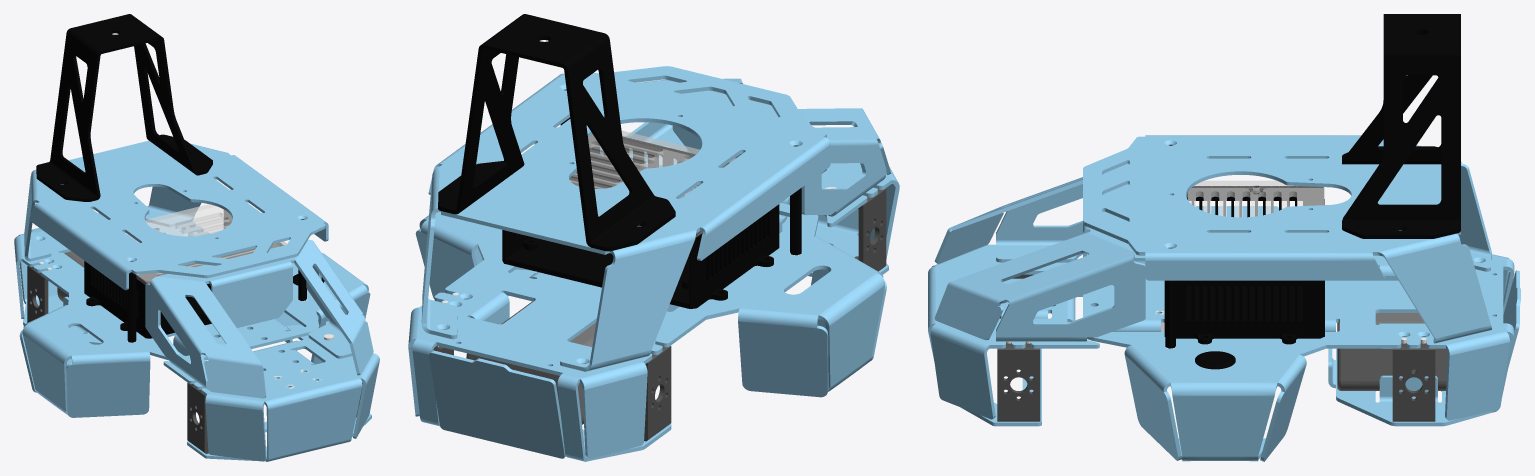
The picture shows the model from 3 angles, left to right: view 1: azimuth 30°, elevation 25°; view 2: azimuth 150°, elevation 25°; view 3: azimuth 270°, elevation 25°; orthographic projection. The views are drawn at different scales.
Visible parts, largest first — view 1: M3____ƿ_1.002, M3____ƿ_9_2_, M3____ƿ_2_1_.001, M3______2, ___ߴ______ʮ____۰__ͷľ_ݶ______1, Բ__2.001, _г_--__1.006, _г_--__6, _г_--__6.001, M3____ƿ_1.001; view 2: M3____ƿ_9_2_, M3____ƿ_1.002, ___ߴ______ʮ____۰__ͷľ_ݶ______1, Բ__2.001, _̨--__3, M3____ƿ_2_1_.001, M3______2, _г_--__1.006, _г_--__6.001, _г_--__6, Բ__2, M3____ƿ_1.001; view 3: M3____ƿ_1.002, M3____ƿ_9_2_, M3____ƿ_2_1_.001, ___ߴ______ʮ____۰__ͷľ_ݶ______1, Բ__2.001, M3______2, Բ__2, _г_--__1.006, _г_--__6.003, _г_--__6.002, _̨--__3, M3____ƿ_1 (+1 smaller).
Part boxes in pixels (x1=…): M3____ƿ_1.002: x1=24, y1=140, x2=328, y2=290; M3____ƿ_9_2_: x1=14, y1=206, x2=370, y2=417; M3____ƿ_2_1_.001: x1=145, y1=239, x2=373, y2=398; M3______2: x1=163, y1=321, x2=379, y2=461; ___ߴ______ʮ____۰__ͷľ_ݶ______1: x1=36, y1=14, x2=212, y2=201; Բ__2.001: x1=84, y1=210, x2=283, y2=338; _г_--__1.006: x1=124, y1=204, x2=286, y2=284; _г_--__6: x1=187, y1=383, x2=208, y2=453; _г_--__6.001: x1=27, y1=263, x2=58, y2=322; M3____ƿ_1.001: x1=127, y1=261, x2=136, y2=342; M3____ƿ_9_2_: x1=408, y1=188, x2=886, y2=461; M3____ƿ_1.002: x1=421, y1=66, x2=830, y2=371; ___ߴ______ʮ____۰__ͷľ_ݶ______1: x1=438, y1=14, x2=675, y2=251; Բ__2.001: x1=502, y1=134, x2=779, y2=308; _̨--__3: x1=429, y1=350, x2=565, y2=458; M3____ƿ_2_1_.001: x1=600, y1=78, x2=891, y2=216; M3______2: x1=672, y1=125, x2=899, y2=276; _г_--__1.006: x1=569, y1=130, x2=735, y2=236; _г_--__6.001: x1=644, y1=346, x2=671, y2=441; _г_--__6: x1=854, y1=188, x2=886, y2=271; Բ__2: x1=466, y1=301, x2=596, y2=424; M3____ƿ_1.001: x1=790, y1=145, x2=801, y2=255; M3____ƿ_1.002: x1=1083, y1=135, x2=1491, y2=343; M3____ƿ_9_2_: x1=1083, y1=206, x2=1514, y2=461; M3____ƿ_2_1_.001: x1=934, y1=164, x2=1145, y2=341; ___ߴ______ʮ____۰__ͷľ_ݶ______1: x1=1342, y1=14, x2=1460, y2=238; Բ__2.001: x1=1164, y1=186, x2=1324, y2=344; M3______2: x1=928, y1=244, x2=1099, y2=426; Բ__2: x1=1337, y1=313, x2=1447, y2=390; _г_--__1.006: x1=1186, y1=180, x2=1324, y2=217; _г_--__6.003: x1=1392, y1=336, x2=1435, y2=421; _г_--__6.002: x1=997, y1=343, x2=1040, y2=421; _̨--__3: x1=1503, y1=270, x2=1520, y2=364; M3____ƿ_1: x1=1165, y1=248, x2=1175, y2=348.
Bounding box in the file's own units: 224 × 305 × 195.
